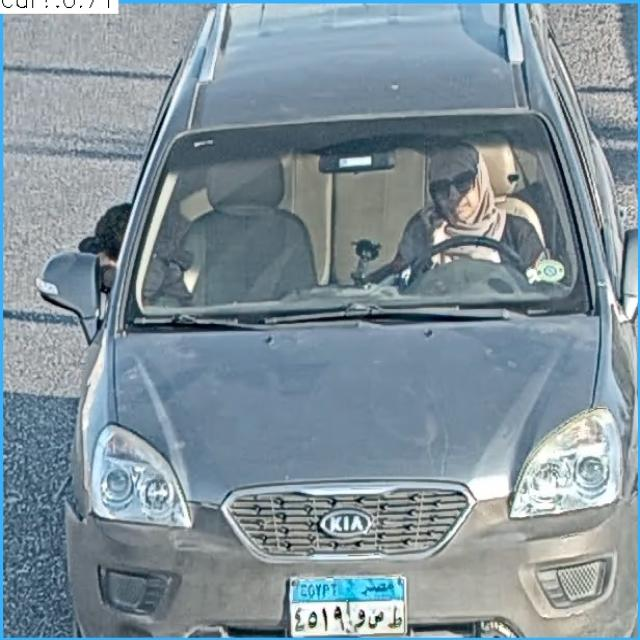windshield: (127, 114, 606, 349)
